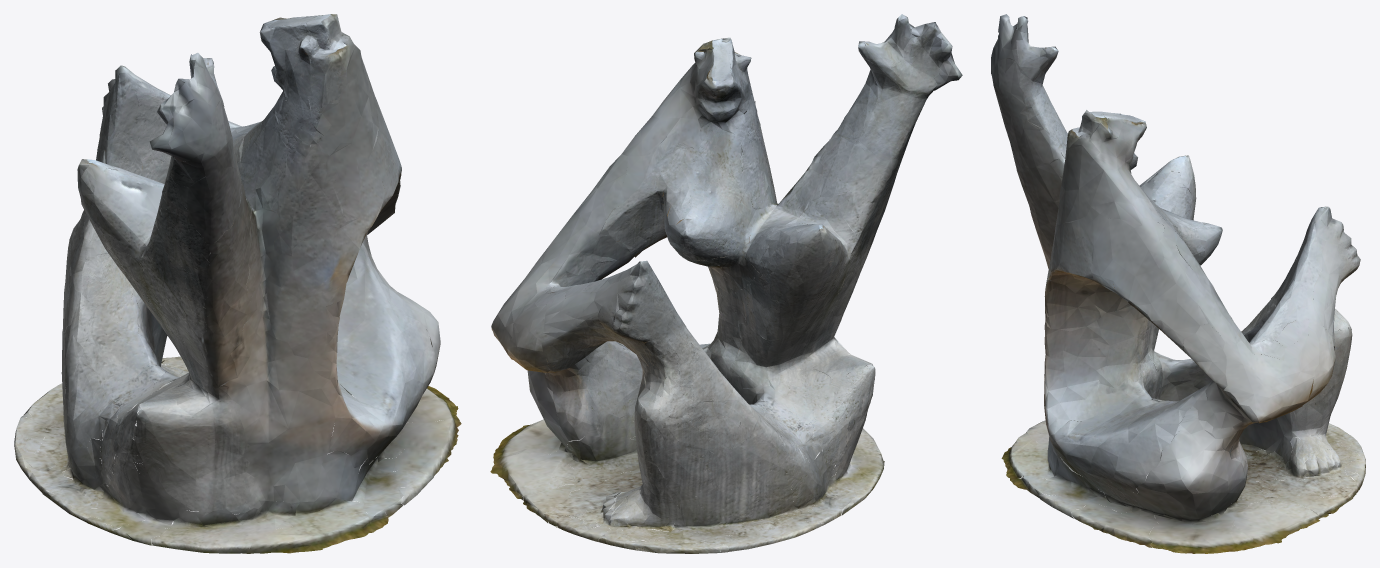
Rendered from klyfur_an_gras_dec.obj.
The picture shows the model from 3 angles, left to right: view 1: azimuth 30°, elevation 25°; view 2: azimuth 150°, elevation 25°; view 3: azimuth 270°, elevation 25°; orthographic projection. The views are drawn at different scales.
Visible parts, largest first — view 1: Object; view 2: Object; view 3: Object.
Part boxes in pixels (x1,y1,x2,y2): Object: (14,14,461,553); Object: (490,14,962,553); Object: (991,14,1365,553).
Bounding box in the file's own units: 3.35 × 3.92 × 3.32.
1 material, 1 textured.
